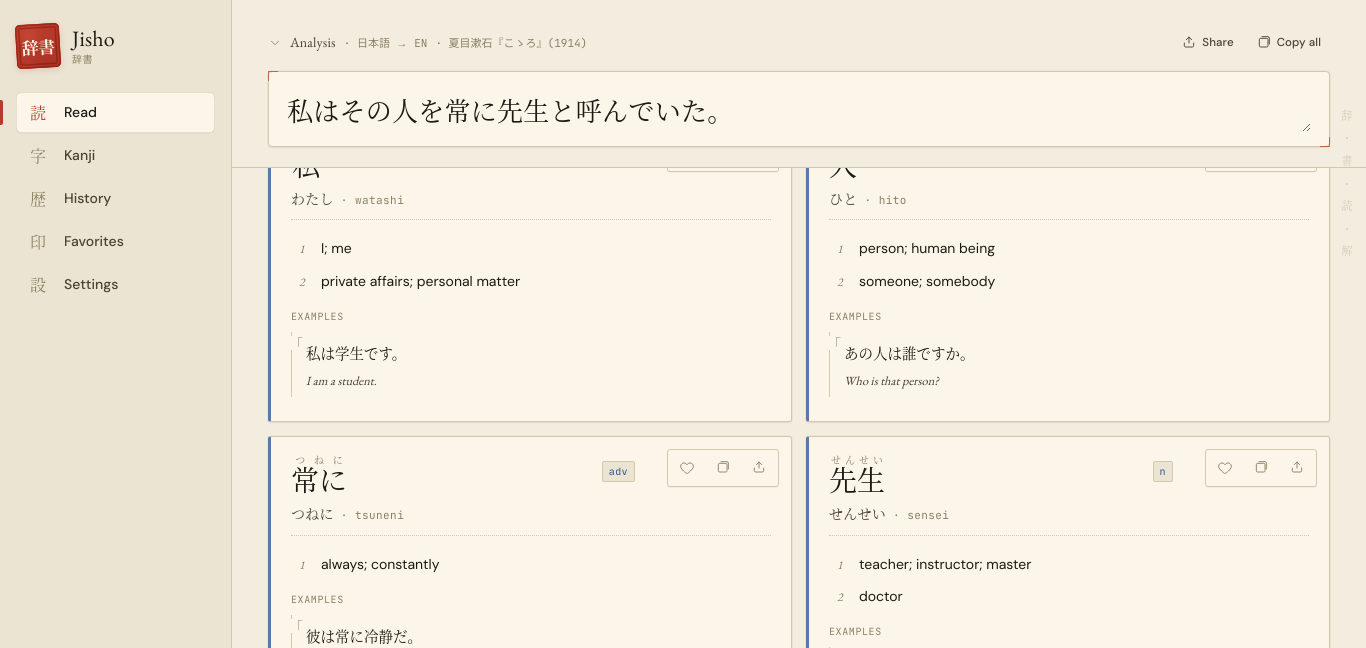
Scenario: Favorites screen › toggling off from the Favorites screen removes the card live
This screenshot has width=1366, height=648.
(page scrolled)
Click the button named "add favorite" below "あの人は誰ですか。" at point(1225, 468), box [1208,452,1242,484]
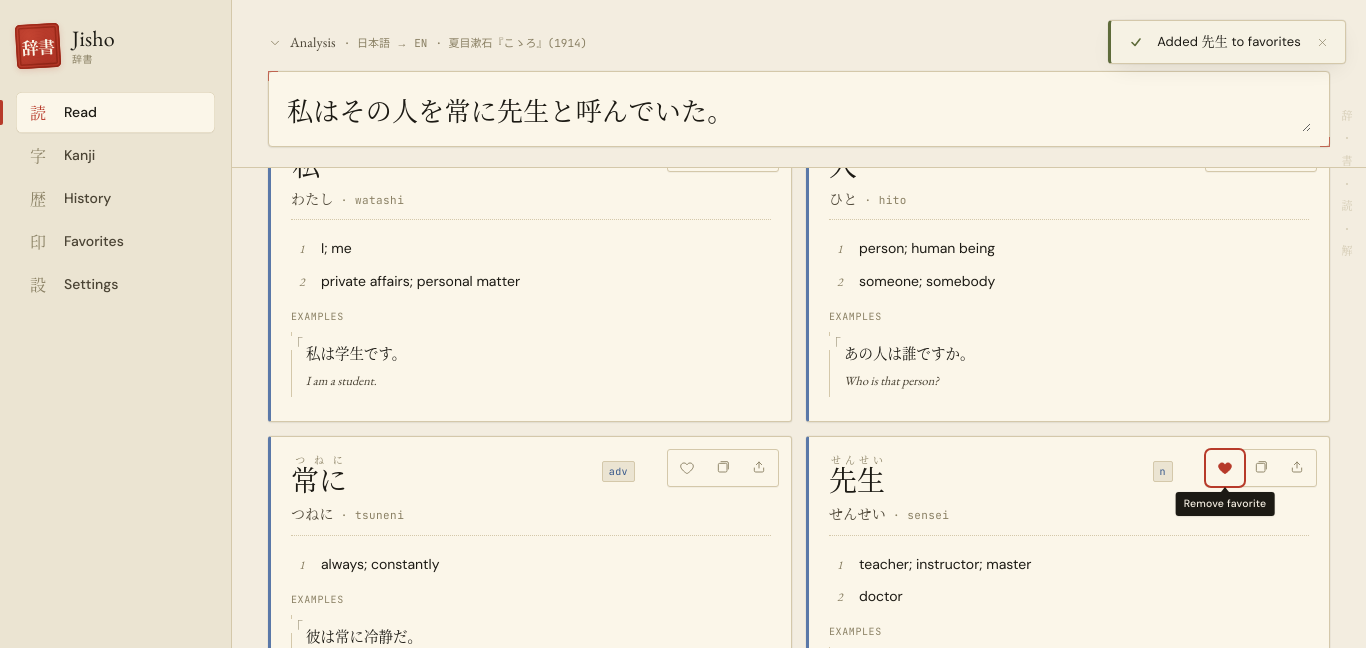
Click the button "印 Favorites" at point(116, 242), box [16,221,215,262]
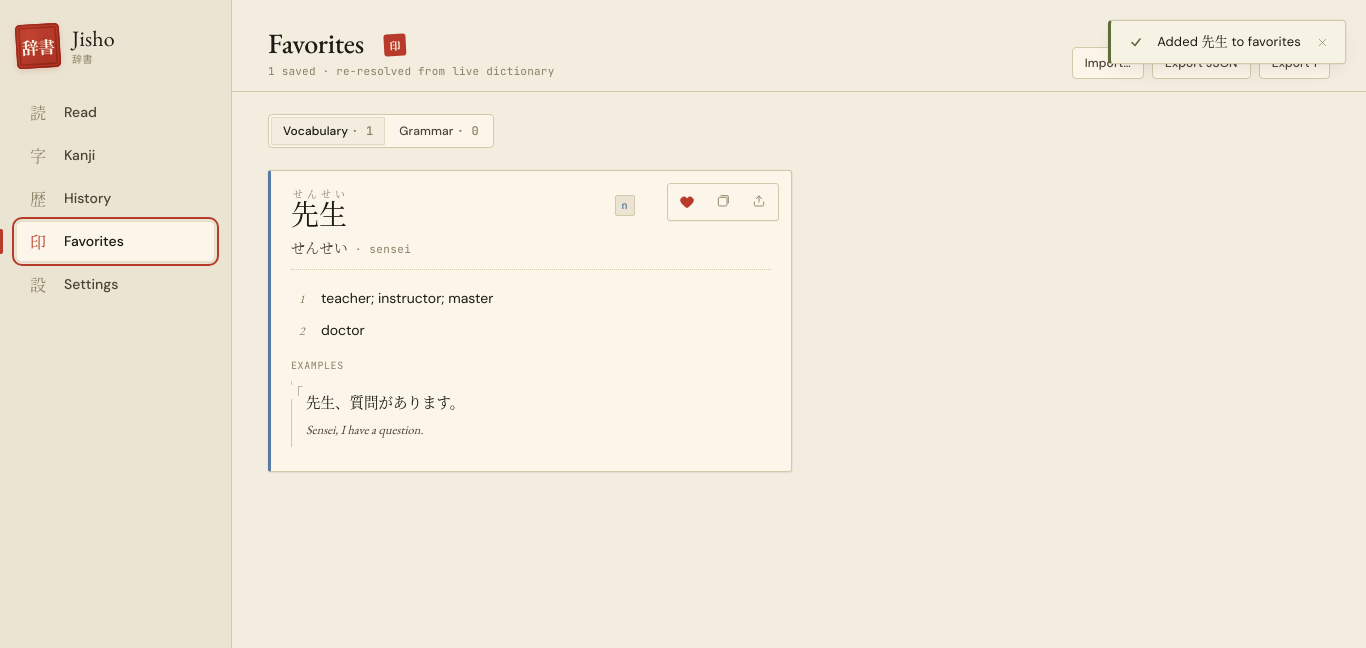
Click the button named "remove favorite" at point(687, 202), box [670,186,704,218]
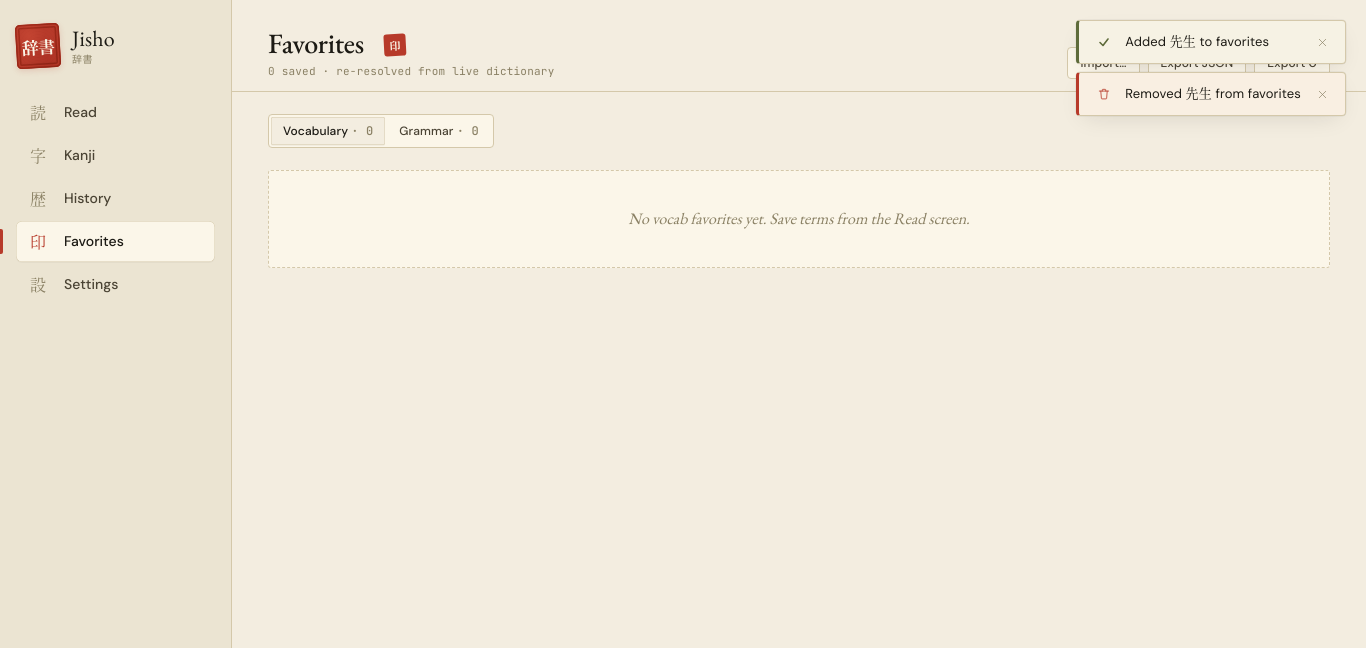
Now the text "No vocab favorites yet. Save terms from the Read screen." is shown, box [268,170,1330,268]
